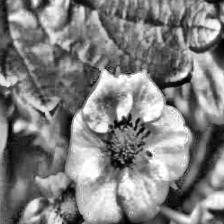Blossom Blight: (97, 112, 155, 177)
